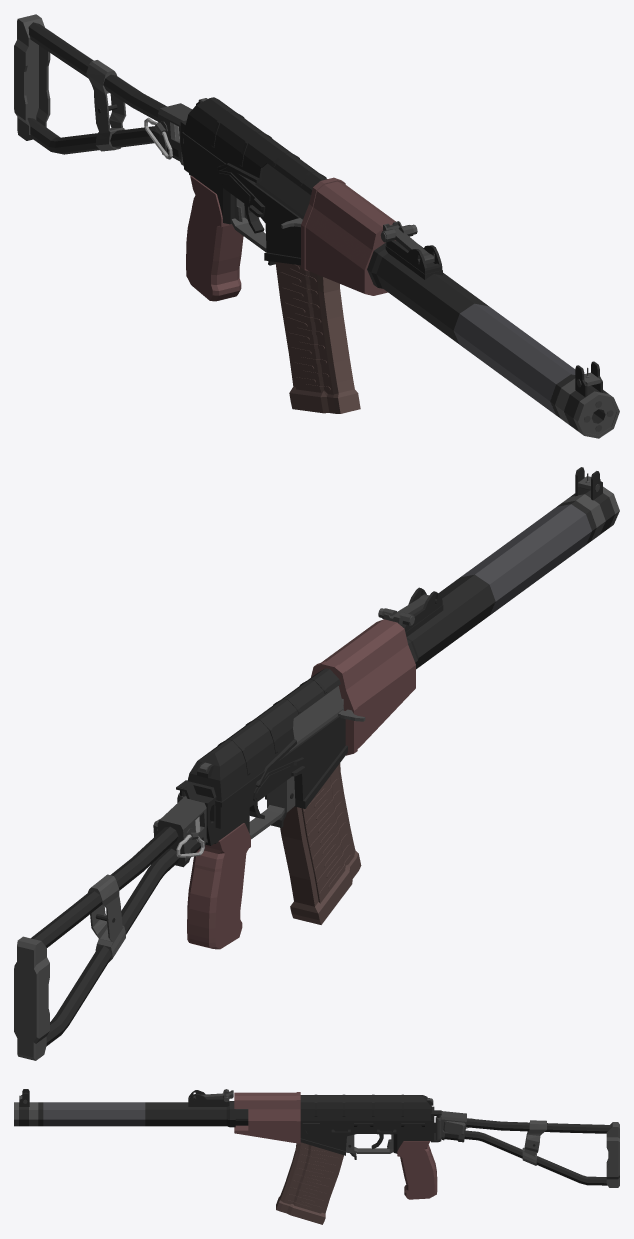
Rendered from asval.glb.
3 renders of one model, top to bottom at view 1: azimuth 30°, elevation 25°; view 2: azimuth 150°, elevation 25°; view 3: azimuth 270°, elevation 25°, orthographic. The views are drawn at different scales.
Visible parts, largest first — view 1: Object_5, Object_3, Object_6, Object_4, Object_2, Object_7; view 2: Object_5, Object_3, Object_6, Object_4, Object_2, Object_7; view 3: Object_5, Object_3, Object_4, Object_6, Object_2, Object_7.
Part boxes in pixels (x1,y1,x2,y2): Object_5: [27, 22, 608, 431]; Object_3: [186, 175, 395, 301]; Object_6: [14, 14, 619, 438]; Object_4: [275, 262, 360, 413]; Object_2: [453, 303, 575, 414]; Object_7: [154, 103, 613, 431]; Object_5: [31, 467, 615, 1046]; Object_3: [187, 619, 415, 949]; Object_6: [14, 473, 619, 1060]; Object_4: [280, 763, 361, 924]; Object_2: [460, 504, 591, 614]; Object_7: [157, 484, 599, 867]; Object_5: [19, 1089, 611, 1185]; Object_3: [234, 1092, 437, 1199]; Object_4: [276, 1142, 343, 1224]; Object_6: [14, 1095, 619, 1187]; Object_2: [43, 1102, 145, 1126]; Object_7: [23, 1089, 466, 1142].
Bounding box in the file's own units: 0.0697 × 0.2442 × 1.03.
